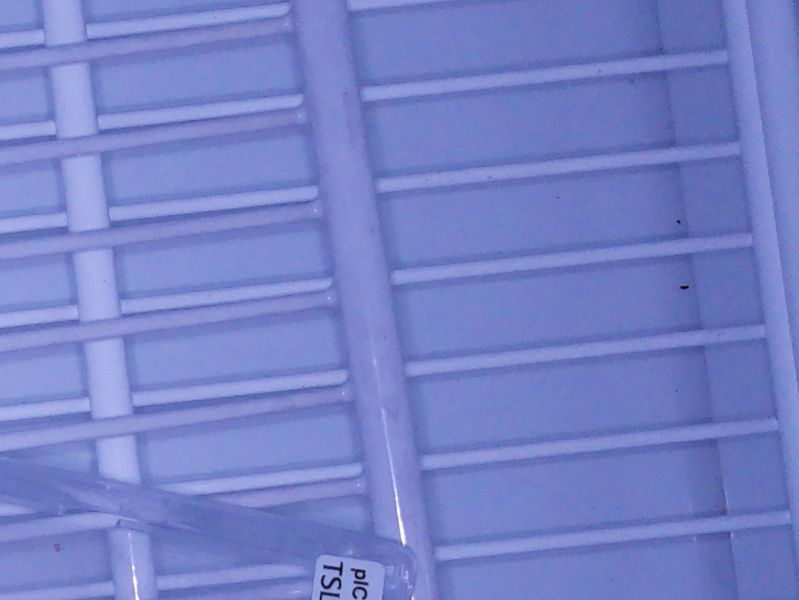plate: (1, 453, 415, 600)
